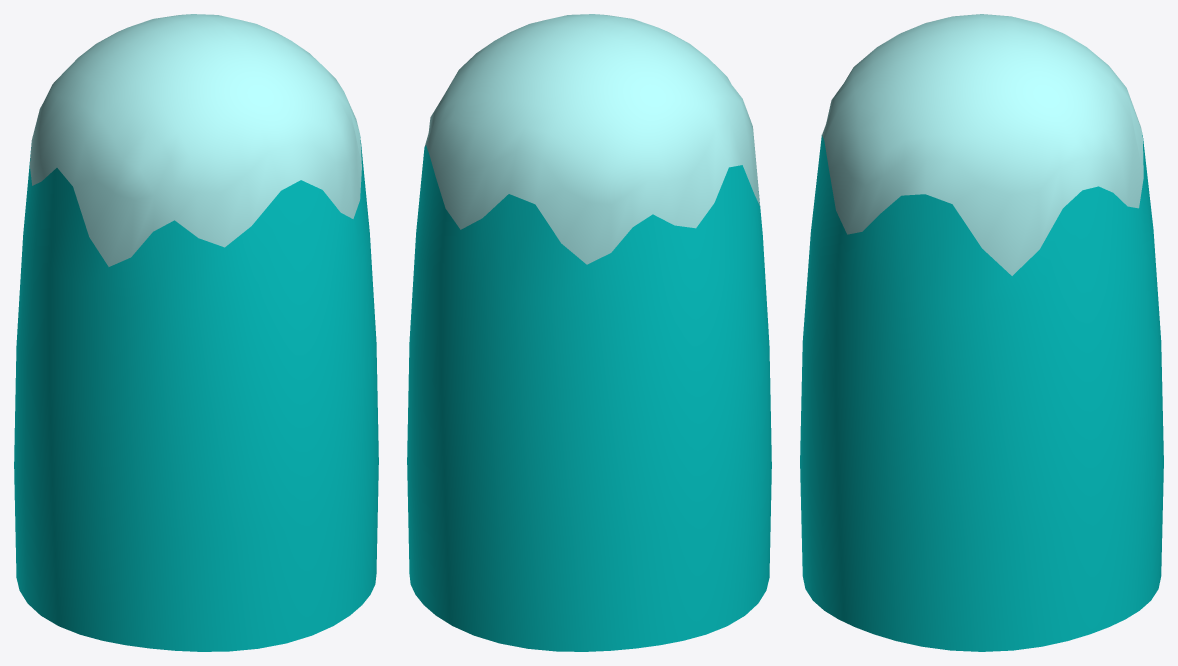
The model's file is montain.fbx.
3 views of the same model, side by side, from view 1: azimuth 30°, elevation 25°; view 2: azimuth 150°, elevation 25°; view 3: azimuth 270°, elevation 25° (orthographic).
Visible parts, largest first — view 1: montanha, cume; view 2: montanha, cume; view 3: montanha, cume.
Part boxes in pixels (x1,y1,x2,y2): montanha: (14,137,378,651); cume: (30,14,361,266); montanha: (407,145,771,651); cume: (424,14,759,264); montanha: (800,135,1163,651); cume: (822,14,1143,275).
Bounding box in the file's own units: 3145 × 5201 × 3145.
